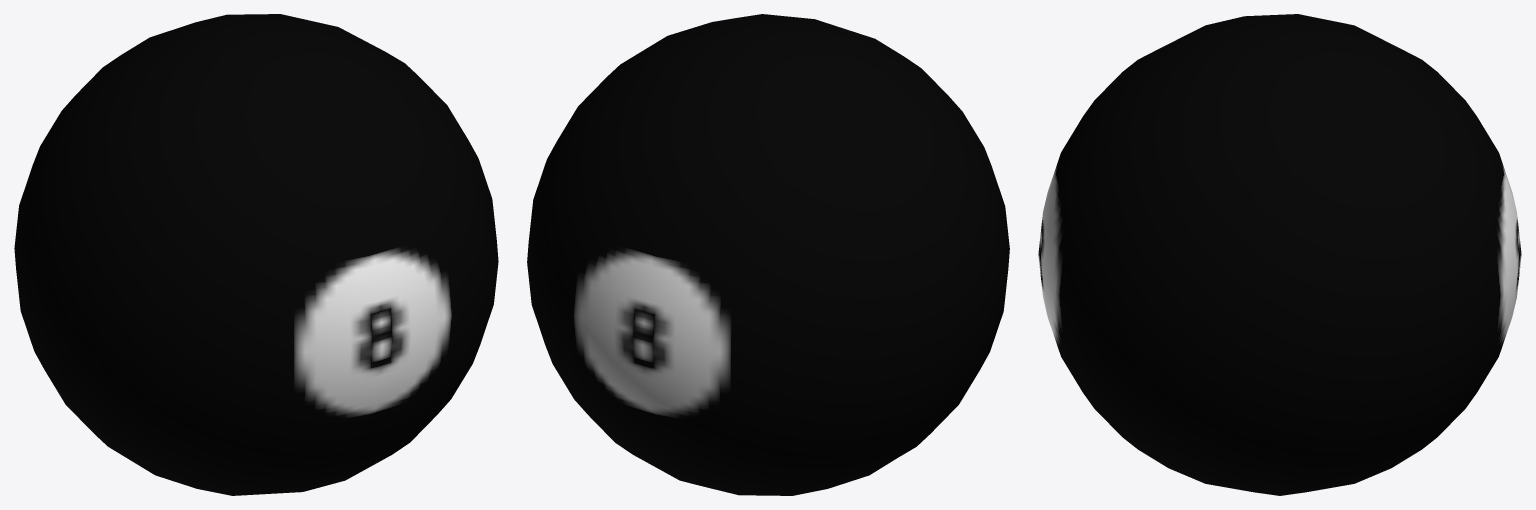
File: ball8.FBX
3 renders of one model, left to right at view 1: azimuth 30°, elevation 25°; view 2: azimuth 150°, elevation 25°; view 3: azimuth 270°, elevation 25°, orthographic.
Visible parts, largest first — view 1: Sphere01; view 2: Sphere01; view 3: Sphere01.
Boxes of the visible parts, left/top/right/bottom form: Sphere01: left=14, top=14, right=498, bottom=495; Sphere01: left=527, top=14, right=1009, bottom=495; Sphere01: left=1038, top=14, right=1521, bottom=495.
Bounding box in the file's own units: 12.04 × 12.04 × 12.04.
Materials: 1 (1 with a texture image).
